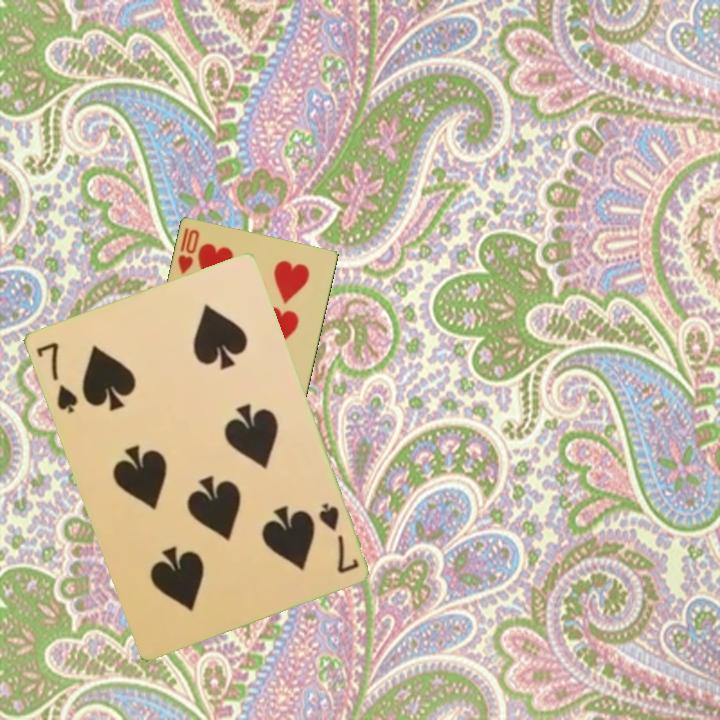10h: (174, 224, 202, 277)
7s: (32, 338, 80, 416), (314, 498, 362, 576)
